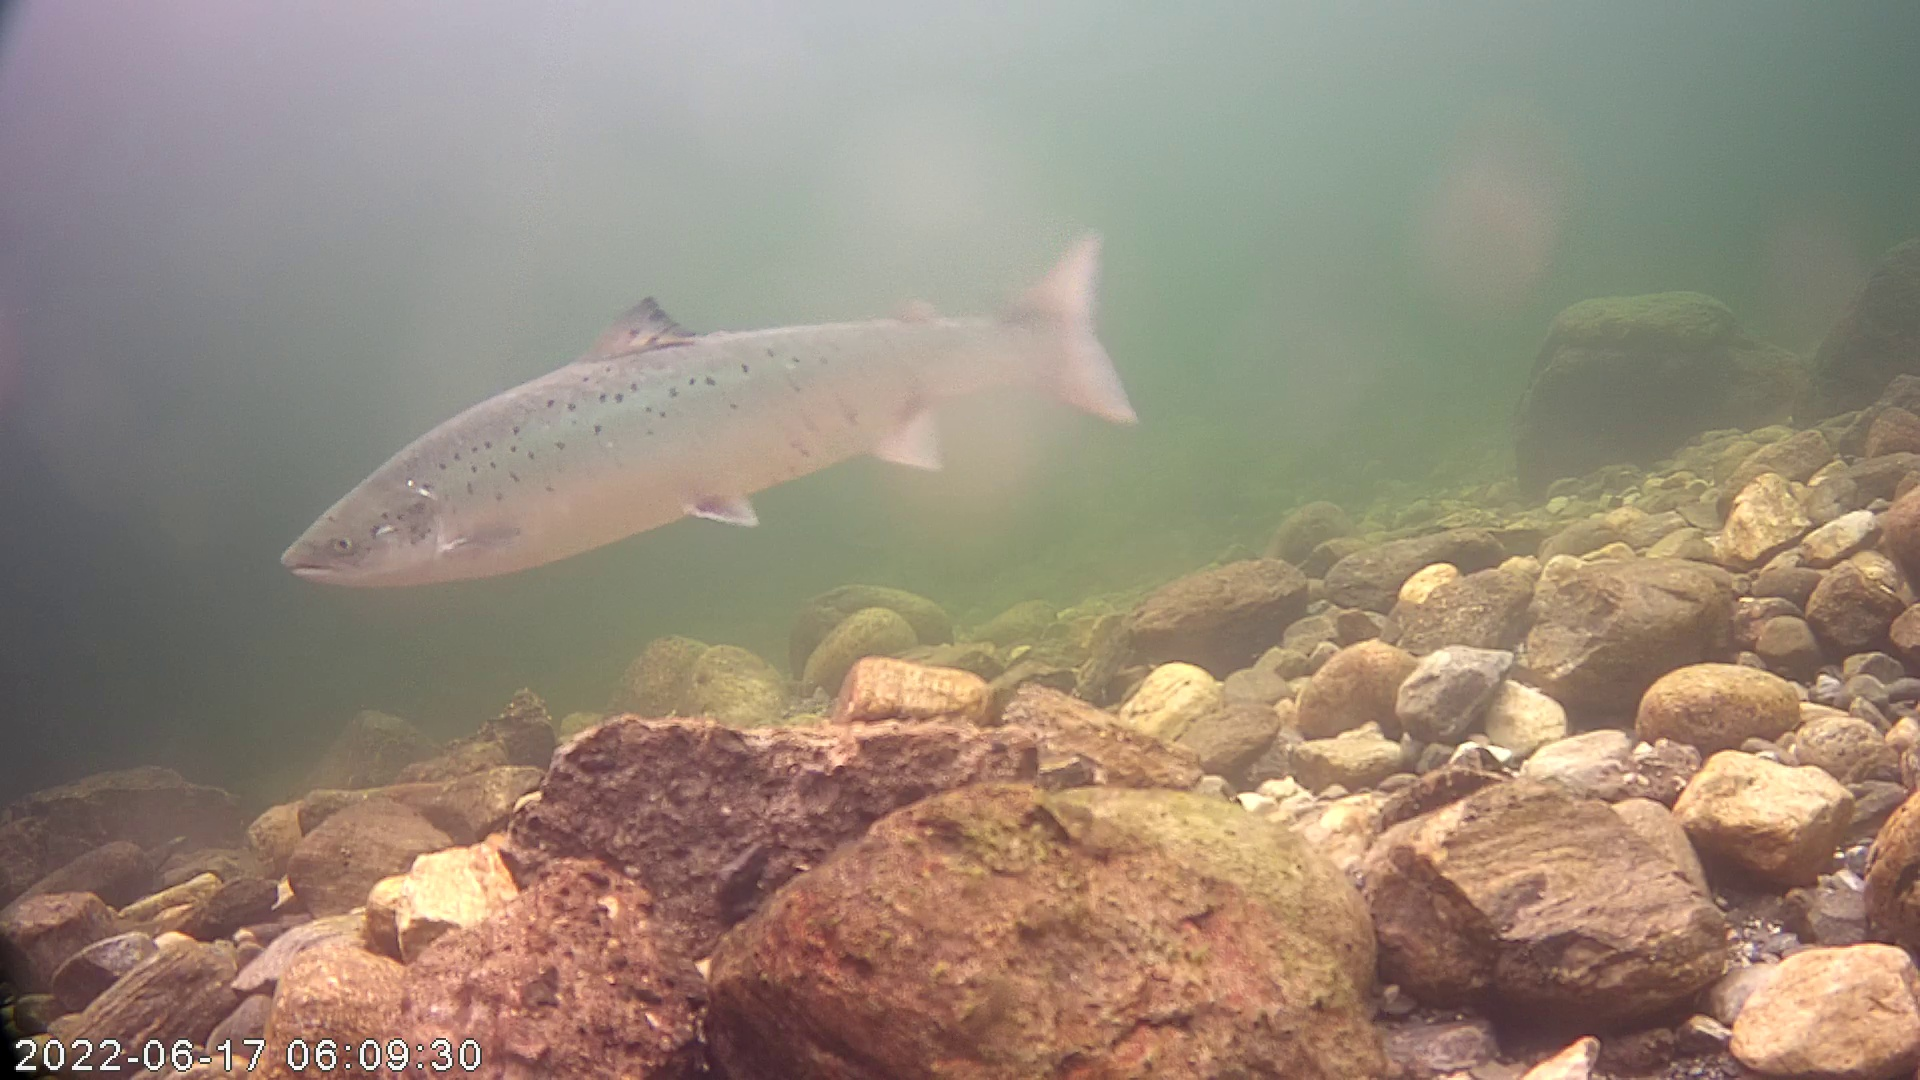salmon: (273, 225, 1145, 591)
